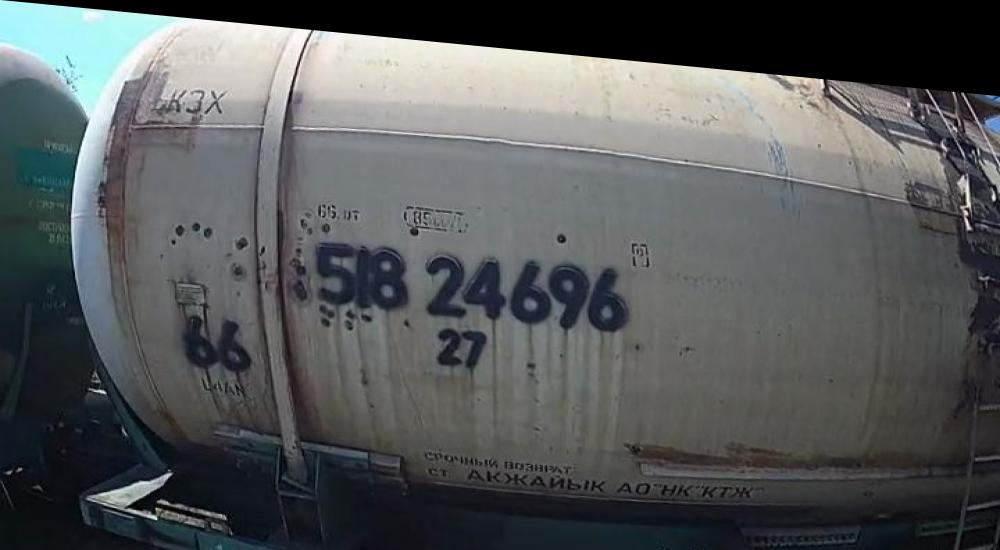Wagon-number: (312, 229, 631, 328)
